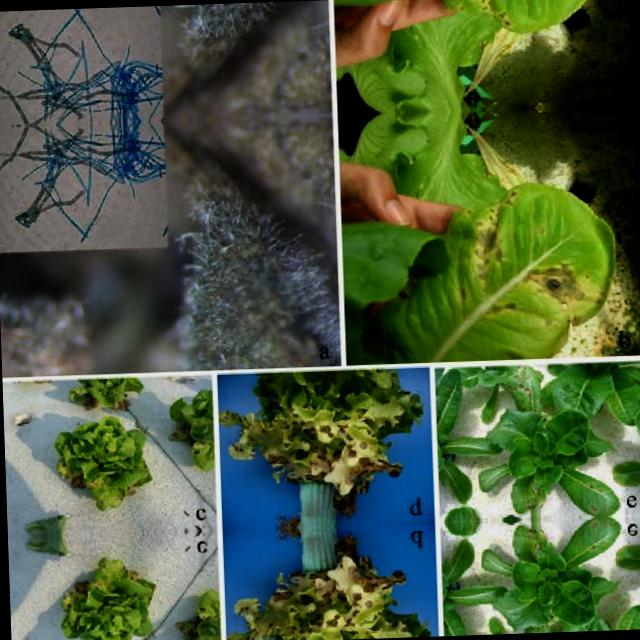Lettuce - Anthracnose: (432, 162, 635, 379), (236, 385, 414, 511), (242, 539, 419, 640), (42, 414, 166, 509), (46, 556, 171, 640), (425, 0, 623, 51)
